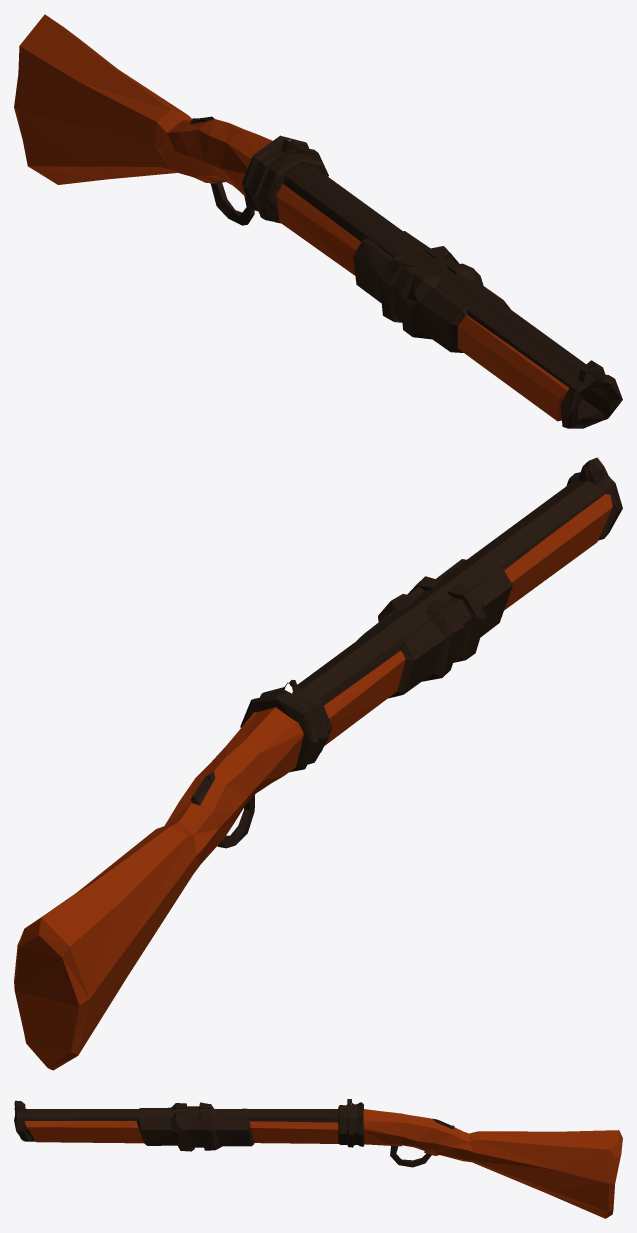
File: SFFA_Rifle_002.fbx
3 renders of one model, top to bottom at view 1: azimuth 30°, elevation 25°; view 2: azimuth 150°, elevation 25°; view 3: azimuth 270°, elevation 25°, orthographic. The views are drawn at different scales.
Parts seen in each view (by area): view 1: SFFA_Rifle_002; view 2: SFFA_Rifle_002; view 3: SFFA_Rifle_002.
Part boxes in pixels (x1=…): SFFA_Rifle_002: x1=14, y1=14, x2=622, y2=428; SFFA_Rifle_002: x1=14, y1=457, x2=622, y2=1070; SFFA_Rifle_002: x1=14, y1=1099, x2=622, y2=1218.
Size of the model in its own units: 9.5 by 25.4 by 118.
